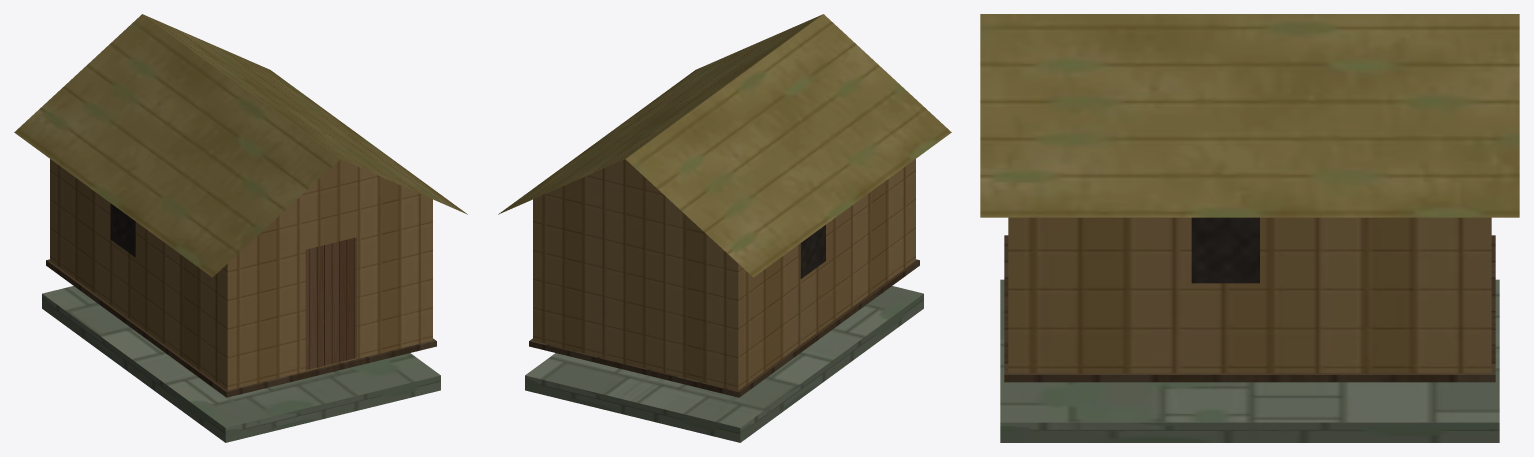
The model's file is ae_jungle_wood_medium_block_lod2.glb.
3 renders of one model, left to right at view 1: azimuth 30°, elevation 25°; view 2: azimuth 150°, elevation 25°; view 3: azimuth 270°, elevation 25°, orthographic. The views are drawn at different scales.
Parts seen in each view (by area): view 1: ae_jungle_wood_medium_block_lod2; view 2: ae_jungle_wood_medium_block_lod2; view 3: ae_jungle_wood_medium_block_lod2.
Boxes of the visible parts, left/top/right/bottom form: ae_jungle_wood_medium_block_lod2: left=14, top=14, right=467, bottom=442; ae_jungle_wood_medium_block_lod2: left=498, top=14, right=951, bottom=442; ae_jungle_wood_medium_block_lod2: left=980, top=14, right=1519, bottom=442.
Bounding box in the file's own units: 5 × 4.9 × 6.7.
1 material, 1 textured.
